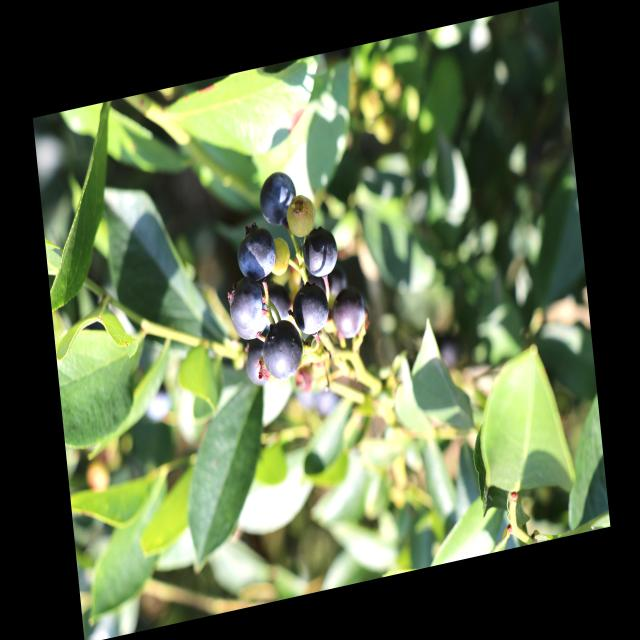blueberry: (228, 274, 272, 345), (260, 316, 307, 382), (232, 224, 278, 284), (256, 169, 300, 231), (299, 223, 342, 281), (328, 284, 369, 343), (290, 281, 331, 337), (244, 338, 274, 390)
blueberry-unripe: (284, 192, 319, 242), (266, 233, 295, 280)
